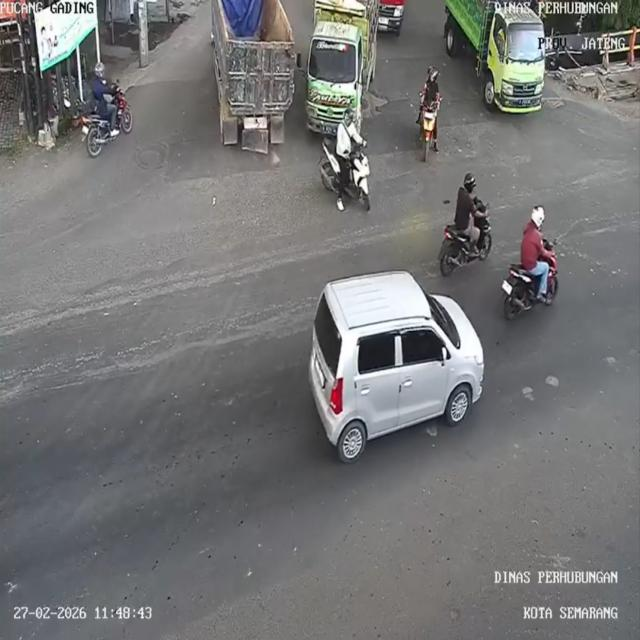motorcycle: (318, 134, 376, 218), (434, 208, 496, 272), (503, 259, 564, 322), (81, 109, 132, 158), (419, 98, 441, 168)
person: (518, 204, 553, 274), (454, 172, 482, 243), (92, 64, 118, 121), (338, 111, 363, 164), (420, 66, 442, 112)
rider_region: (429, 172, 493, 278), (502, 204, 559, 322), (318, 108, 372, 211), (84, 62, 134, 158), (418, 65, 444, 168)
